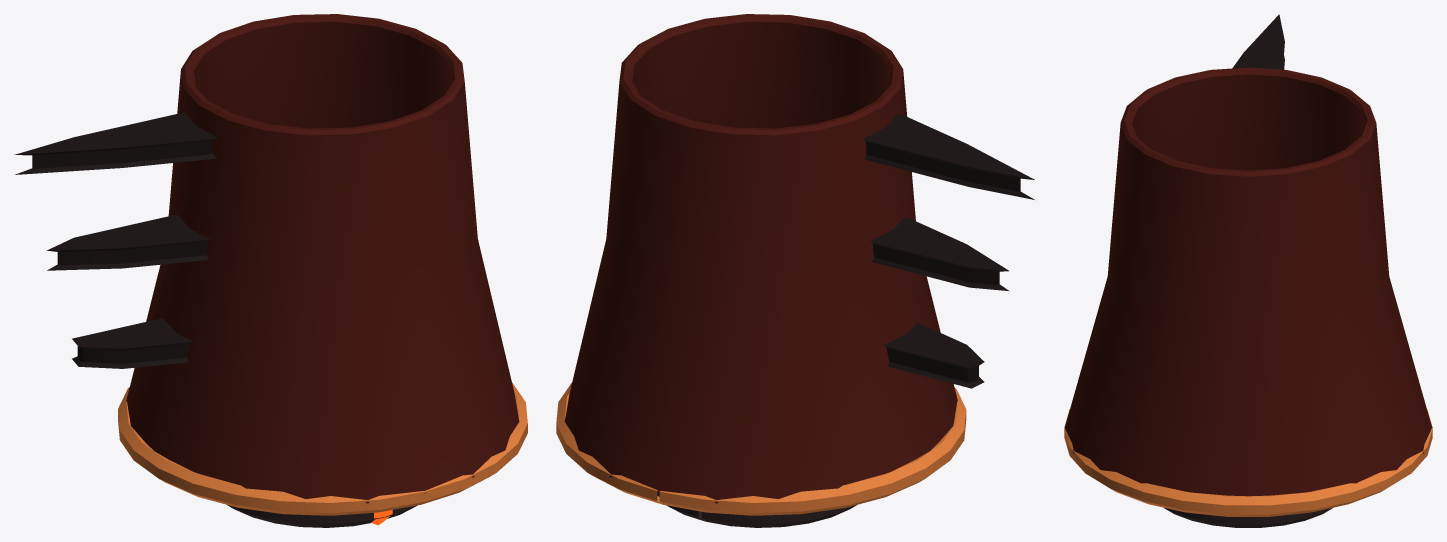
Rendered from asc_magma_oracle_gloves_R.glb.
The picture shows the model from 3 angles, left to right: view 1: azimuth 30°, elevation 25°; view 2: azimuth 150°, elevation 25°; view 3: azimuth 270°, elevation 25°; orthographic projection. The views are drawn at different scales.
Visible parts, largest first — view 1: asc_magma_oracle_gloves; view 2: asc_magma_oracle_gloves; view 3: asc_magma_oracle_gloves.
Boxes of the visible parts, x1=… form: asc_magma_oracle_gloves: x1=14, y1=14, x2=527, y2=527; asc_magma_oracle_gloves: x1=556, y1=14, x2=1034, y2=527; asc_magma_oracle_gloves: x1=1064, y1=14, x2=1432, y2=527.
Size of the model in its own units: 0.2927 by 0.2464 by 0.2227.
